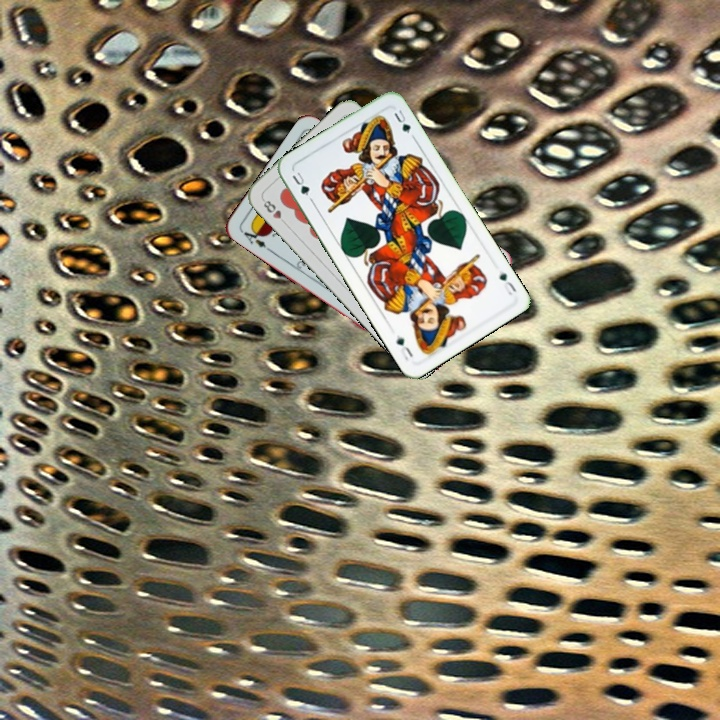EA: (237, 223, 273, 254)
GU: (288, 168, 315, 204), (494, 266, 519, 298)
H8: (258, 195, 290, 228)
